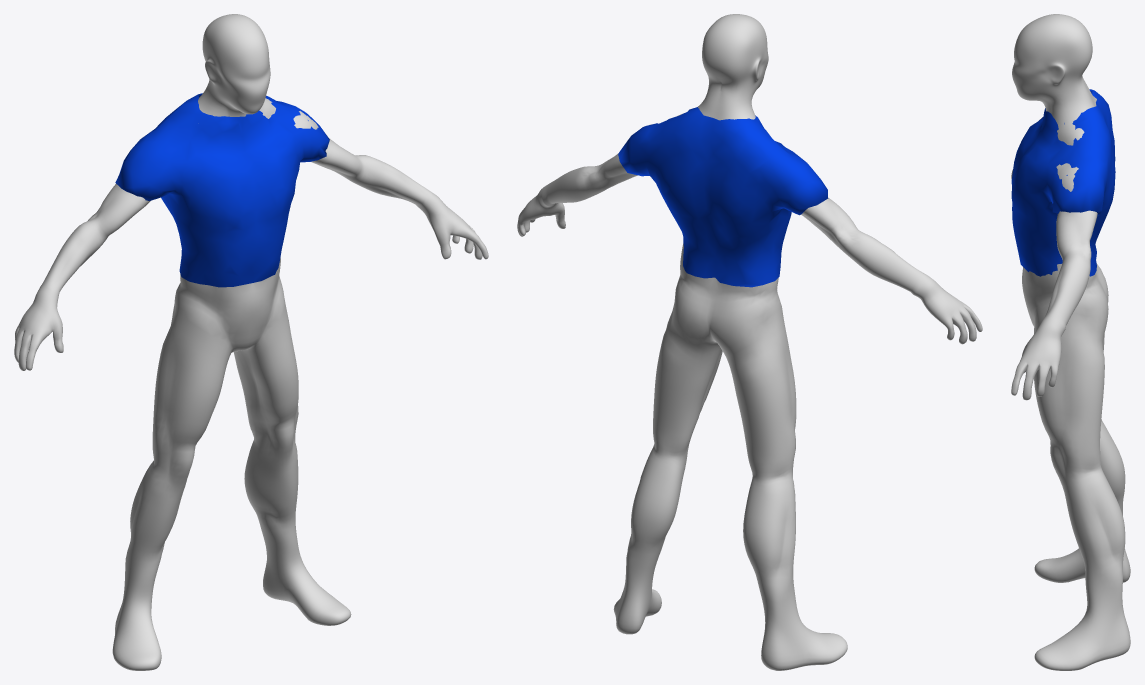
The model's file is shirt.fbx.
3 views of the same model, side by side, from view 1: azimuth 30°, elevation 25°; view 2: azimuth 150°, elevation 25°; view 3: azimuth 270°, elevation 25° (orthographic). The views are drawn at different scales.
Parts seen in each view (by area): view 1: lowman_shoes, top; view 2: lowman_shoes, top; view 3: lowman_shoes, top.
Part boxes in pixels (x1=…): lowman_shoes: x1=14, y1=14, x2=488, y2=670; top: x1=115, y1=93, x2=329, y2=287; lowman_shoes: x1=517, y1=14, x2=982, y2=670; top: x1=618, y1=107, x2=828, y2=287; lowman_shoes: x1=1011, y1=14, x2=1130, y2=670; top: x1=1011, y1=89, x2=1115, y2=276.
Size of the model in its own units: 462 by 598 by 107.
